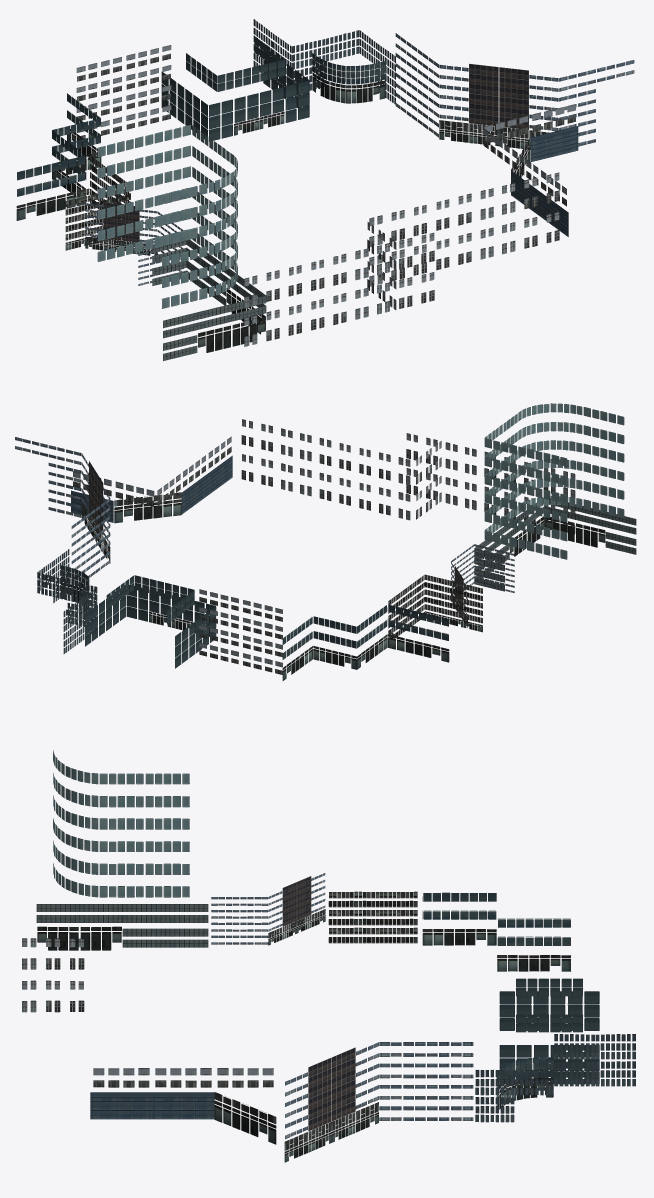
Rendered from building_fbx_3.fbx.
The picture shows the model from 3 angles, top to bottom: view 1: azimuth 30°, elevation 25°; view 2: azimuth 150°, elevation 25°; view 3: azimuth 270°, elevation 25°; orthographic projection. The views are drawn at different scales.
Parts seen in each view (by area): view 1: Building_10, Building_13_1, Building_14, Building_19, Building_30, Building_28, Building_05, Building_30_1, Building_21, Building_13, Building_12; view 2: Building_10, Building_14, Building_05, Building_28, Building_30, Building_13_1, Building_12, Building_19, Building_21, Building_30_1, Building_13; view 3: Building_10, Building_13_1, Building_28, Building_19, Building_14, Building_05, Building_12, Building_13, Building_30.
Boxes of the visible parts, left/top/right/bottom form: Building_10: left=97, top=125, right=266, bottom=360; Building_13_1: left=395, top=33, right=634, bottom=149; Building_14: left=161, top=36, right=309, bottom=141; Building_19: left=253, top=19, right=395, bottom=104; Building_30: left=367, top=172, right=559, bottom=309; Building_28: left=483, top=104, right=578, bottom=236; Building_05: left=16, top=93, right=101, bottom=220; Building_30_1: left=244, top=232, right=434, bottom=346; Building_21: left=76, top=45, right=171, bottom=139; Building_13: left=85, top=202, right=183, bottom=285; Building_12: left=65, top=155, right=130, bottom=250; Building_10: left=474, top=403, right=636, bottom=591; Building_14: left=85, top=575, right=216, bottom=668; Building_05: left=282, top=604, right=449, bottom=680; Building_28: left=71, top=436, right=232, bottom=523; Building_30: left=241, top=419, right=441, bottom=520; Building_13_1: left=15, top=437, right=110, bottom=588; Building_12: left=388, top=574, right=482, bottom=638; Building_19: left=37, top=549, right=97, bottom=653; Building_21: left=199, top=589, right=282, bottom=674; Building_30_1: left=406, top=433, right=575, bottom=533; Building_13: left=451, top=544, right=514, bottom=627; Building_10: left=36, top=750, right=208, bottom=950; Building_13_1: left=284, top=1042, right=473, bottom=1162; Building_28: left=90, top=1068, right=276, bottom=1144; Building_19: left=475, top=1034, right=635, bottom=1122; Building_14: left=499, top=978, right=599, bottom=1084; Building_05: left=422, top=892, right=570, bottom=971; Building_12: left=328, top=891, right=417, bottom=943; Building_13: left=211, top=873, right=325, bottom=945; Building_30: left=22, top=938, right=84, bottom=1012.
Bounding box in the file's own units: 1037 × 291 × 880.
